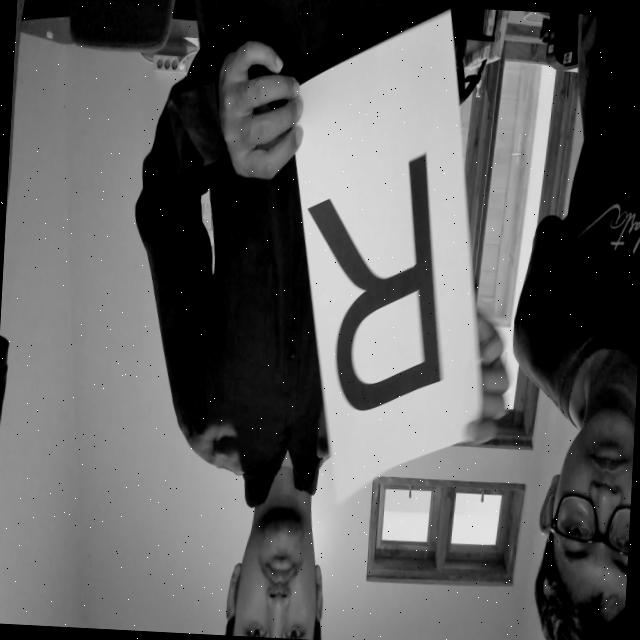r: (290, 141, 470, 425)
